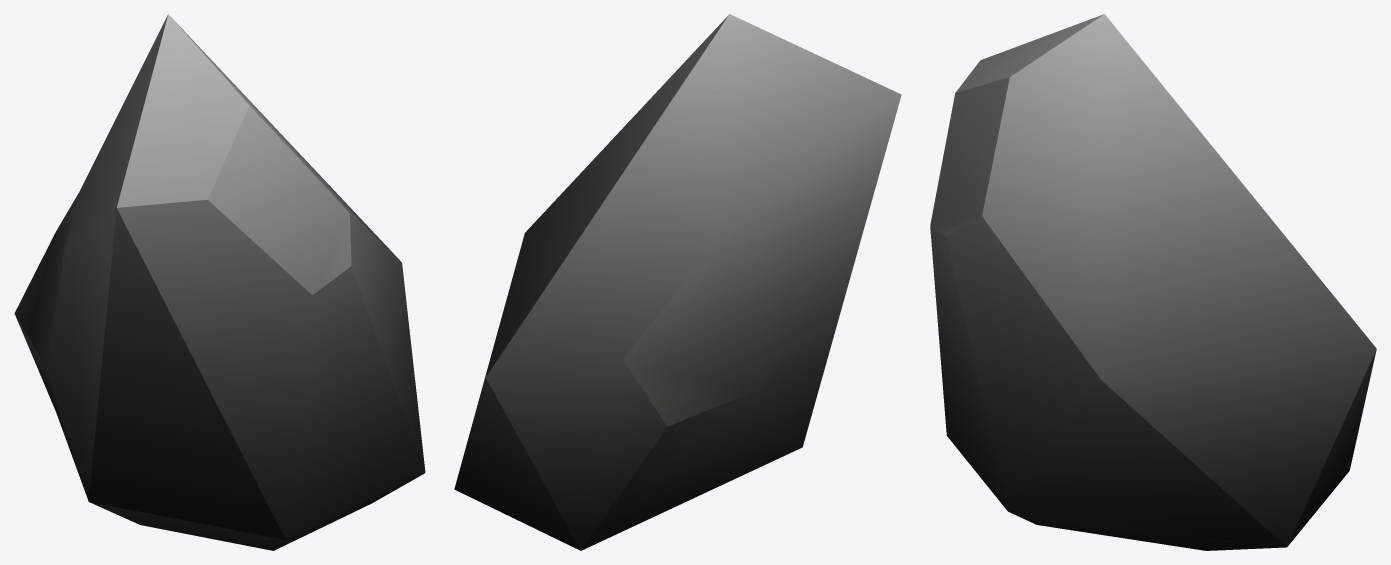
Rendered from rock1.fbx.
3 renders of one model, left to right at view 1: azimuth 30°, elevation 25°; view 2: azimuth 150°, elevation 25°; view 3: azimuth 270°, elevation 25°, orthographic. The views are drawn at different scales.
Visible parts, largest first — view 1: rock7; view 2: rock7; view 3: rock7.
Boxes of the visible parts, bbox=[...] form: rock7: bbox=[14, 14, 425, 550]; rock7: bbox=[454, 14, 901, 550]; rock7: bbox=[930, 14, 1376, 550].
Size of the model in its own units: 203 by 297 by 252.
